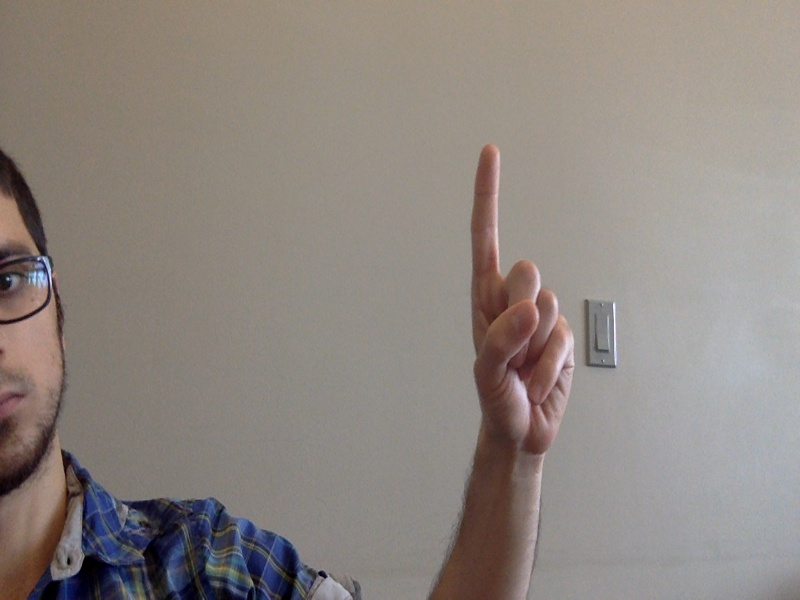1-hand: (468, 145, 579, 458)
